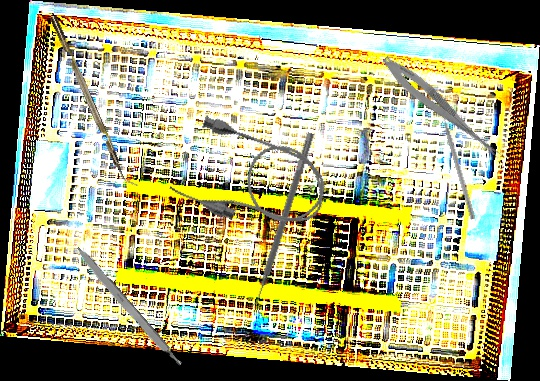Cannula: (166, 111, 338, 247)
Chopper: (49, 11, 139, 192), (438, 105, 482, 220)
Micro Scissor: (377, 51, 508, 164)
Scalpel Handle: (72, 245, 184, 370)
Spatula Surgical: (246, 129, 315, 312)
